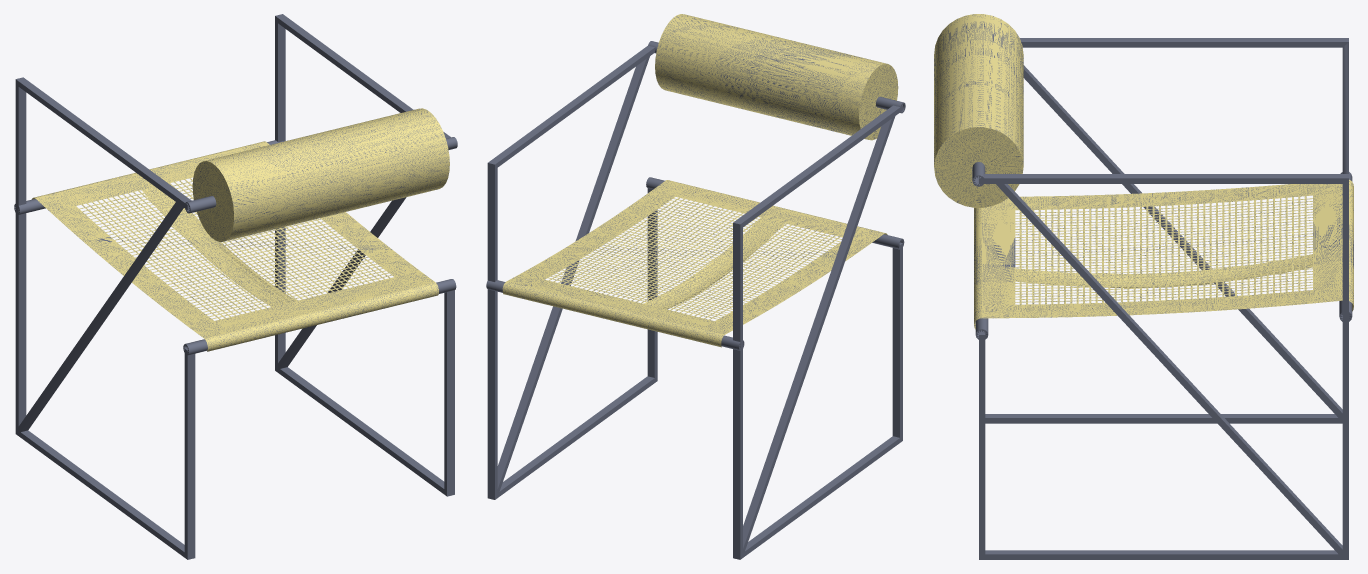
The picture shows the model from 3 angles, left to right: view 1: azimuth 30°, elevation 25°; view 2: azimuth 150°, elevation 25°; view 3: azimuth 270°, elevation 25°; orthographic projection. The views are drawn at different scales.
Parts seen in each view (by area): view 1: mesh1_mesh1-geometry, mesh3_mesh3-geometry, mesh6_mesh6-geometry, mesh7_mesh7-geometry, mesh2_mesh2-geometry, mesh11_mesh11-geometry, mesh5_mesh5-geometry, mesh9_mesh9-geometry; view 2: mesh1_mesh1-geometry, mesh3_mesh3-geometry, mesh6_mesh6-geometry, mesh7_mesh7-geometry, mesh11_mesh11-geometry, mesh9_mesh9-geometry, mesh4_mesh4-geometry, mesh5_mesh5-geometry; view 3: mesh3_mesh3-geometry, mesh1_mesh1-geometry, mesh7_mesh7-geometry, mesh6_mesh6-geometry, mesh9_mesh9-geometry, mesh11_mesh11-geometry, mesh5_mesh5-geometry, mesh2_mesh2-geometry, mesh4_mesh4-geometry.
Boxes of the visible parts, x1=… form: mesh1_mesh1-geometry: x1=192, y1=108, x2=449, y2=241; mesh3_mesh3-geometry: x1=35, y1=142, x2=434, y2=338; mesh6_mesh6-geometry: x1=15, y1=77, x2=195, y2=559; mesh7_mesh7-geometry: x1=275, y1=14, x2=454, y2=496; mesh2_mesh2-geometry: x1=204, y1=282, x2=438, y2=351; mesh11_mesh11-geometry: x1=18, y1=202, x2=183, y2=432; mesh5_mesh5-geometry: x1=141, y1=187, x2=296, y2=306; mesh9_mesh9-geometry: x1=278, y1=197, x2=406, y2=368; mesh1_mesh1-geometry: x1=655, y1=14, x2=898, y2=140; mesh3_mesh3-geometry: x1=506, y1=180, x2=883, y2=334; mesh6_mesh6-geometry: x1=733, y1=105, x2=902, y2=559; mesh7_mesh7-geometry: x1=487, y1=45, x2=657, y2=499; mesh11_mesh11-geometry: x1=743, y1=116, x2=895, y2=552; mesh9_mesh9-geometry: x1=497, y1=56, x2=649, y2=492; mesh4_mesh4-geometry: x1=502, y1=281, x2=723, y2=347; mesh5_mesh5-geometry: x1=643, y1=217, x2=784, y2=309; mesh3_mesh3-geometry: x1=982, y1=184, x2=1342, y2=318; mesh1_mesh1-geometry: x1=934, y1=14, x2=1023, y2=207; mesh7_mesh7-geometry: x1=979, y1=174, x2=1348, y2=559; mesh6_mesh6-geometry: x1=985, y1=38, x2=1348, y2=423; mesh9_mesh9-geometry: x1=996, y1=184, x2=1342, y2=554; mesh11_mesh11-geometry: x1=1023, y1=65, x2=1342, y2=417; mesh5_mesh5-geometry: x1=1015, y1=254, x2=1312, y2=288; mesh2_mesh2-geometry: x1=974, y1=208, x2=981, y2=329; mesh4_mesh4-geometry: x1=1349, y1=179, x2=1353, y2=311.
Size of the model in its own units: 0.4693 by 0.654 by 0.5934.
